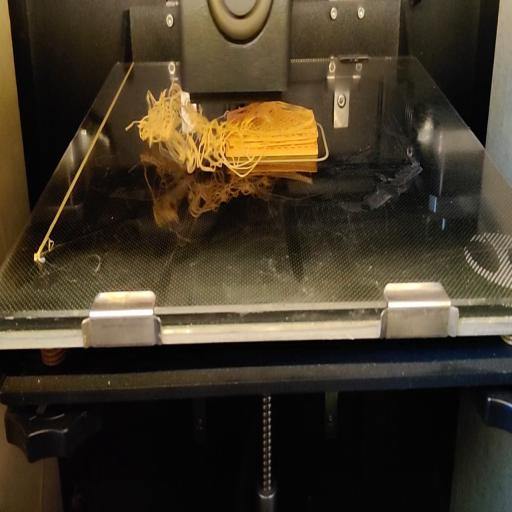spaghetti: (193, 109, 224, 173)
